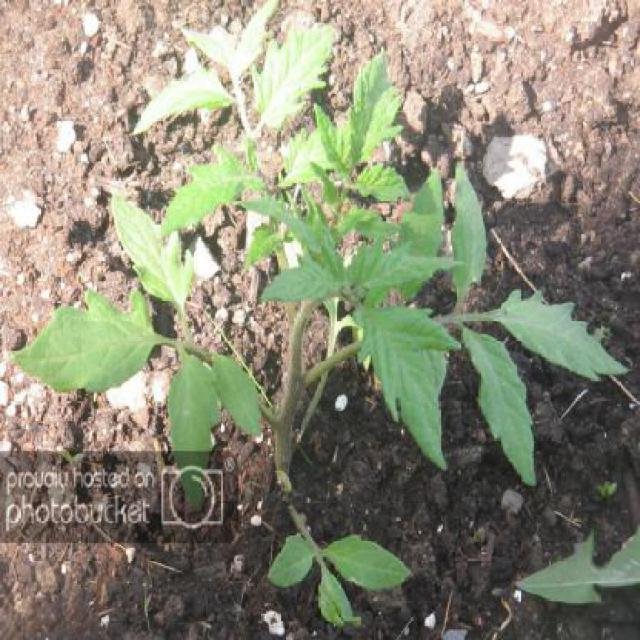Tomato bacterial spot leaf: (360, 300, 456, 478), (17, 292, 157, 406), (489, 284, 629, 388), (155, 351, 228, 514), (103, 186, 194, 312), (246, 21, 339, 130), (150, 150, 244, 244), (346, 57, 402, 177), (349, 242, 463, 300), (452, 158, 494, 310), (320, 528, 416, 590), (210, 356, 264, 452), (268, 262, 350, 316), (274, 126, 342, 189), (258, 524, 324, 584), (310, 108, 352, 184), (316, 569, 358, 628), (350, 168, 412, 205)
